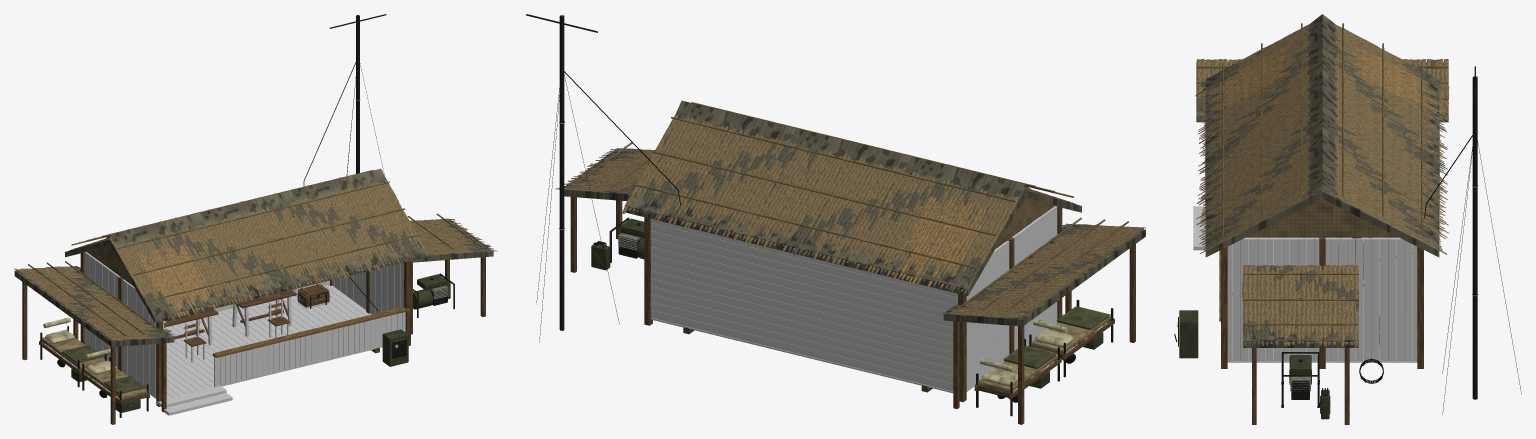
Rendered from C2_ApprovedArt.fbx.
The picture shows the model from 3 angles, left to right: view 1: azimuth 30°, elevation 25°; view 2: azimuth 150°, elevation 25°; view 3: azimuth 270°, elevation 25°; orthographic projection. The views are drawn at different scales.
Visible parts, largest first — view 1: Plank floor / WeatheredTimber.001, Overlapping dry palm leaflets / PalmDry.003, Dense palm underthatch / PalmOld.003, Overlapping ridge cap / PalmOld.001, Overlapping dry palm leaflets / PalmDry.005, Overlapping dry palm leaflets / PalmRepair.002, Dense palm underthatch / PalmOld.005, Bamboo retaining batten / RoofBamboo.003, Overlapping dry palm leaflets / PalmDry.006, Floor bearer / AgedTeak.001, Shelter post / AgedTeak.001, Wall plate / EndgrainRepair.001 (+11 smaller); view 2: Plank floor / WeatheredTimber.001, Overlapping dry palm leaflets / PalmDry.004, Dense palm underthatch / PalmOld.004, Overlapping ridge cap / PalmOld.001, Overlapping dry palm leaflets / PalmDry.005, Overlapping dry palm leaflets / PalmRepair.003, Dense palm underthatch / PalmOld.005, Bamboo retaining batten / RoofBamboo.004, Floor bearer / AgedTeak.001, Shelter post / AgedTeak.001, Overlapping dry palm leaflets / PalmDry.006, Antenna mast / BlackSteel (+10 smaller); view 3: Plank floor / WeatheredTimber.001, Overlapping dry palm leaflets / PalmDry.004, Overlapping dry palm leaflets / PalmDry.003, Overlapping dry palm leaflets / PalmDry.006, Dense palm underthatch / PalmOld.004, Dense palm underthatch / PalmOld.003, Overlapping ridge cap / PalmOld.001, Woven gable / PalmWeave.001, Dense palm underthatch / PalmOld.006, Overlapping dry palm leaflets / PalmRepair.002, Overlapping dry palm leaflets / PalmRepair.003, Floor bearer / AgedTeak.001 (+13 smaller).
Part boxes in pixels (left/top/right/bottom): Plank floor / WeatheredTimber.001: left=84, top=252, right=405, bottom=415; Overlapping dry palm leaflets / PalmDry.003: left=109, top=177, right=427, bottom=306; Dense palm underthatch / PalmOld.003: left=110, top=181, right=426, bottom=322; Overlapping ridge cap / PalmOld.001: left=104, top=168, right=386, bottom=246; Overlapping dry palm leaflets / PalmDry.005: left=16, top=266, right=167, bottom=340; Overlapping dry palm leaflets / PalmRepair.002: left=138, top=245, right=218, bottom=317; Dense palm underthatch / PalmOld.005: left=14, top=266, right=175, bottom=347; Bamboo retaining batten / RoofBamboo.003: left=117, top=181, right=419, bottom=301; Overlapping dry palm leaflets / PalmDry.006: left=410, top=219, right=484, bottom=254; Floor bearer / AgedTeak.001: left=80, top=252, right=410, bottom=406; Shelter post / AgedTeak.001: left=22, top=282, right=166, bottom=424; Wall plate / EndgrainRepair.001: left=184, top=245, right=409, bottom=357; Plank floor / WeatheredTimber.001: left=651, top=206, right=1064, bottom=393; Overlapping dry palm leaflets / PalmDry.004: left=622, top=115, right=1024, bottom=287; Dense palm underthatch / PalmOld.004: left=624, top=117, right=1024, bottom=295; Overlapping ridge cap / PalmOld.001: left=675, top=100, right=1031, bottom=199; Overlapping dry palm leaflets / PalmDry.005: left=940, top=225, right=1145, bottom=317; Overlapping dry palm leaflets / PalmRepair.003: left=887, top=197, right=986, bottom=288; Dense palm underthatch / PalmOld.005: left=943, top=223, right=1145, bottom=326; Bamboo retaining batten / RoofBamboo.004: left=632, top=116, right=1015, bottom=268; Floor bearer / AgedTeak.001: left=644, top=206, right=1062, bottom=402; Shelter post / AgedTeak.001: left=953, top=244, right=1135, bottom=424; Overlapping dry palm leaflets / PalmDry.006: left=555, top=149, right=654, bottom=192; Antenna mast / BlackSteel: left=559, top=15, right=564, bottom=330; Plank floor / WeatheredTimber.001: left=1193, top=206, right=1417, bottom=362; Overlapping dry palm leaflets / PalmDry.004: left=1324, top=24, right=1449, bottom=254; Overlapping dry palm leaflets / PalmDry.003: left=1196, top=24, right=1322, bottom=253; Overlapping dry palm leaflets / PalmDry.006: left=1242, top=265, right=1358, bottom=346; Dense palm underthatch / PalmOld.004: left=1322, top=33, right=1447, bottom=257; Dense palm underthatch / PalmOld.003: left=1195, top=28, right=1322, bottom=257; Overlapping ridge cap / PalmOld.001: left=1307, top=14, right=1337, bottom=195; Woven gable / PalmWeave.001: left=1246, top=199, right=1398, bottom=237; Dense palm underthatch / PalmOld.006: left=1243, top=265, right=1358, bottom=347; Overlapping dry palm leaflets / PalmRepair.002: left=1196, top=44, right=1291, bottom=120; Overlapping dry palm leaflets / PalmRepair.003: left=1353, top=46, right=1447, bottom=121; Floor bearer / AgedTeak.001: left=1221, top=237, right=1423, bottom=368.
Size of the model in its own units: 1112 by 660 by 637.
